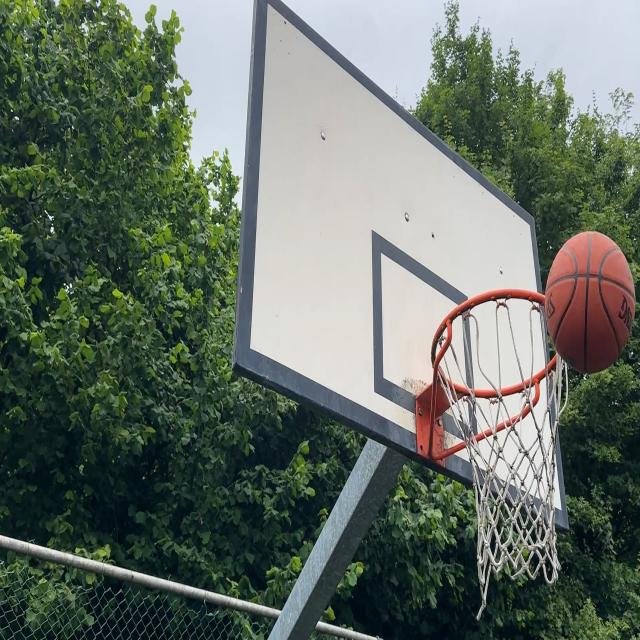rebound_hit: (535, 235, 636, 372)
